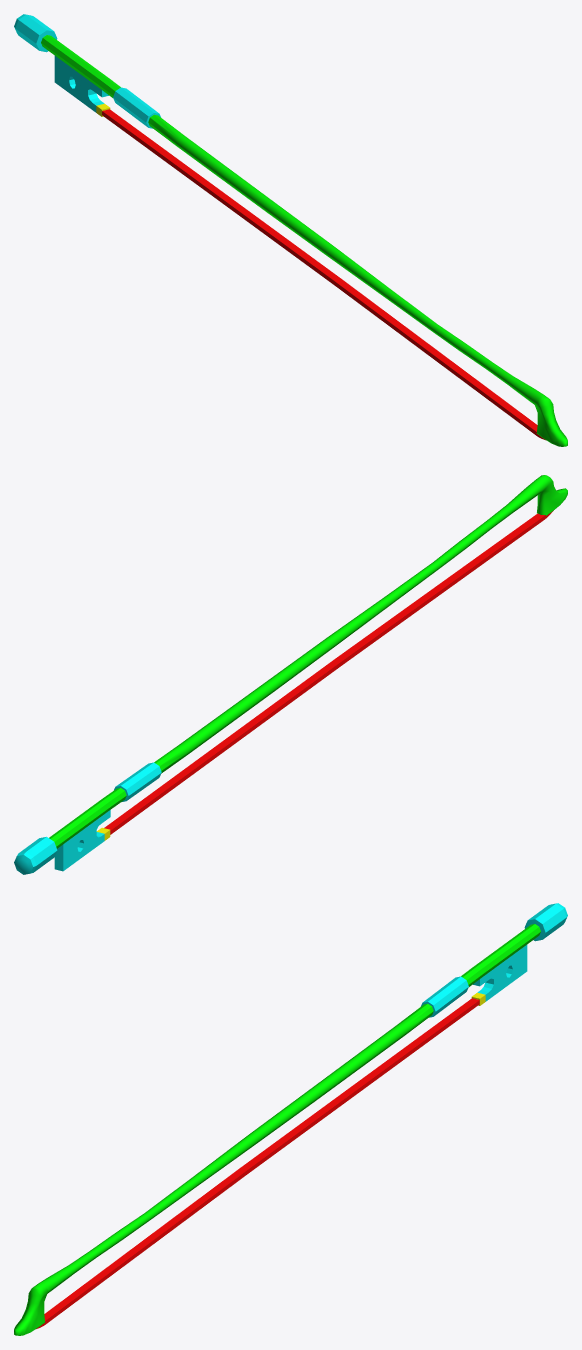
The model's file is bogen_HP.fbx.
3 renders of one model, top to bottom at view 1: azimuth 30°, elevation 25°; view 2: azimuth 150°, elevation 25°; view 3: azimuth 330°, elevation 25°, orthographic.
Parts seen in each view (by area): view 1: griff_high, sehne_high, metall_high; view 2: griff_high, sehne_high, metall_high; view 3: griff_high, sehne_high, metall_high.
Part boxes in pixels (<box>): griff_high: <box>14,14,567,446</box>; sehne_high: <box>102,109,546,440</box>; metall_high: <box>54,55,110,116</box>; griff_high: <box>14,475,567,874</box>; sehne_high: <box>104,510,553,834</box>; metall_high: <box>54,810,110,871</box>; griff_high: <box>14,903,567,1335</box>; sehne_high: <box>36,998,479,1328</box>; metall_high: <box>471,945,527,1005</box>.
Bounding box in the file's own units: 0.286 × 0.5605 × 12.65.
